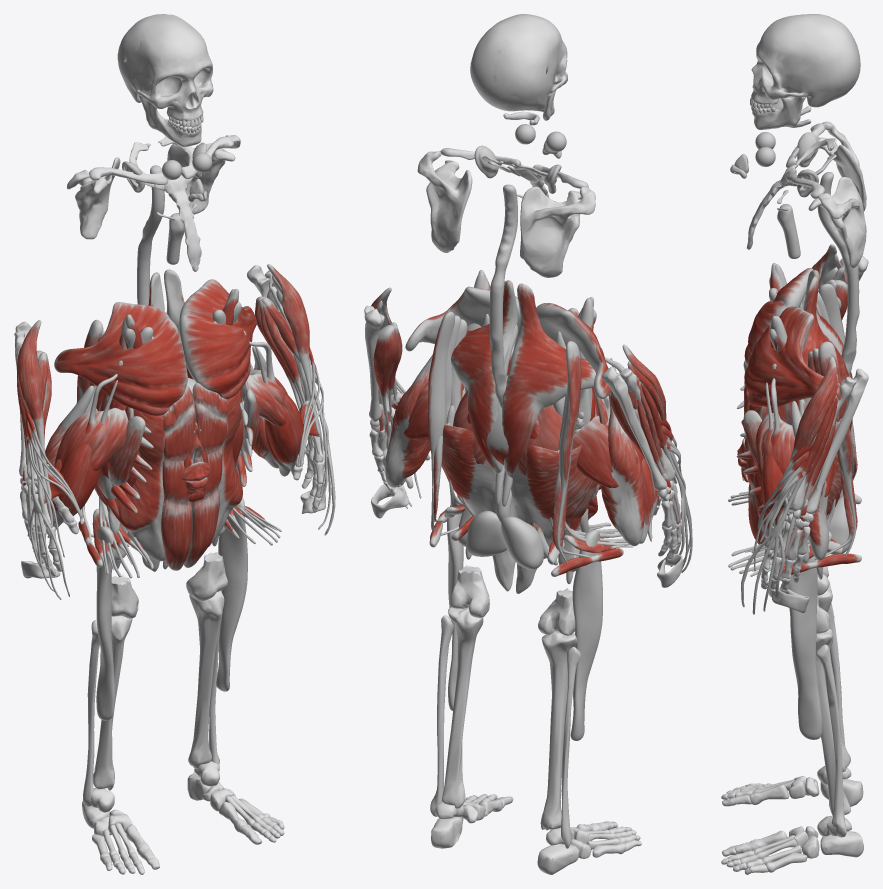
Rendered from human-muscles.tablet.glb.
3 renders of one model, left to right at view 1: azimuth 30°, elevation 25°; view 2: azimuth 150°, elevation 25°; view 3: azimuth 270°, elevation 25°, orthographic. The views are drawn at different scales.
Visible parts, largest first — view 1: Object_29, Object_23, Object_11, Object_31, Object_33, Object_5, Object_25, Object_13, Object_21, Object_3, Object_17, Object_15 (+1 smaller); view 2: Object_29, Object_13, Object_11, Object_25, Object_33, Object_31, Object_23, Object_5, Object_3, Object_17, Object_21, Object_7 (+1 smaller); view 3: Object_29, Object_11, Object_23, Object_31, Object_25, Object_33, Object_13, Object_5, Object_21, Object_17, Object_3, Object_7.
Boxes of the visible parts, x1=… form: Object_29: x1=14, y1=14, x2=324, y2=874; Object_23: x1=54, y1=279, x2=257, y2=570; Object_11: x1=21, y1=142, x2=325, y2=720; Object_31: x1=17, y1=264, x2=335, y2=599; Object_33: x1=42, y1=341, x2=303, y2=537; Object_5: x1=54, y1=369, x2=287, y2=470; Object_25: x1=76, y1=319, x2=281, y2=578; Object_13: x1=94, y1=269, x2=253, y2=571; Object_21: x1=23, y1=347, x2=327, y2=557; Object_3: x1=98, y1=380, x2=259, y2=499; Object_17: x1=98, y1=289, x2=243, y2=568; Object_15: x1=182, y1=377, x2=210, y2=501; Object_29: x1=364, y1=14, x2=681, y2=874; Object_13: x1=441, y1=280, x2=600, y2=593; Object_11: x1=371, y1=124, x2=682, y2=740; Object_25: x1=427, y1=311, x2=633, y2=576; Object_33: x1=385, y1=354, x2=659, y2=546; Object_31: x1=371, y1=287, x2=692, y2=572; Object_23: x1=405, y1=286, x2=611, y2=558; Object_5: x1=403, y1=382, x2=643, y2=487; Object_3: x1=453, y1=390, x2=599, y2=505; Object_17: x1=462, y1=270, x2=596, y2=583; Object_21: x1=378, y1=378, x2=682, y2=519; Object_7: x1=458, y1=308, x2=601, y2=572; Object_29: x1=721, y1=14, x2=868, y2=874; Object_11: x1=730, y1=132, x2=859, y2=739; Object_23: x1=744, y1=268, x2=841, y2=559; Object_31: x1=741, y1=244, x2=847, y2=614; Object_25: x1=728, y1=283, x2=861, y2=576; Object_33: x1=760, y1=378, x2=829, y2=563; Object_13: x1=736, y1=270, x2=852, y2=579; Object_5: x1=755, y1=413, x2=834, y2=497; Object_21: x1=754, y1=444, x2=812, y2=571; Object_17: x1=770, y1=263, x2=811, y2=422; Object_3: x1=743, y1=360, x2=768, y2=468; Object_7: x1=769, y1=277, x2=814, y2=556.
Bounding box in the file's own units: 856708 × 2230422 × 365395.
Materials: 16 (14 with a texture image).
